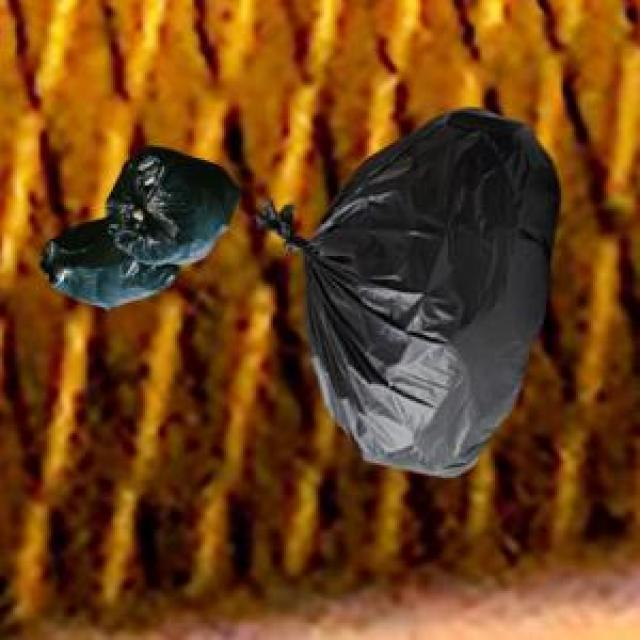miscellaneous trash: (250, 105, 557, 472), (36, 143, 235, 305)
